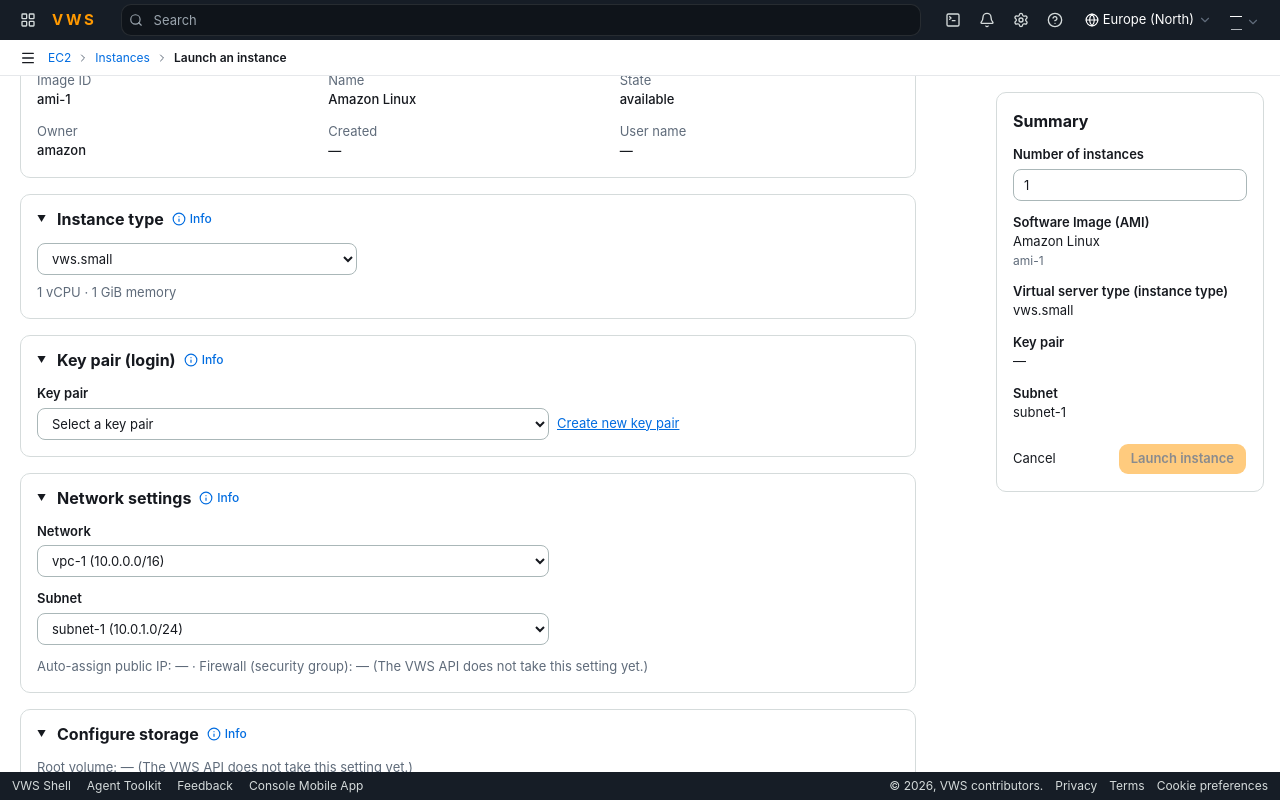
Test: launch key pair selection › enables launch after an explicit key pair selection
The image size is (1280, 800).
(page scrolled)
Expected: the button "Launch instance" is disabled, [1118,442,1247,474]
Select "web" in the dropdown named "Key pair". click: (293, 424)
box: [37,408,549,440]
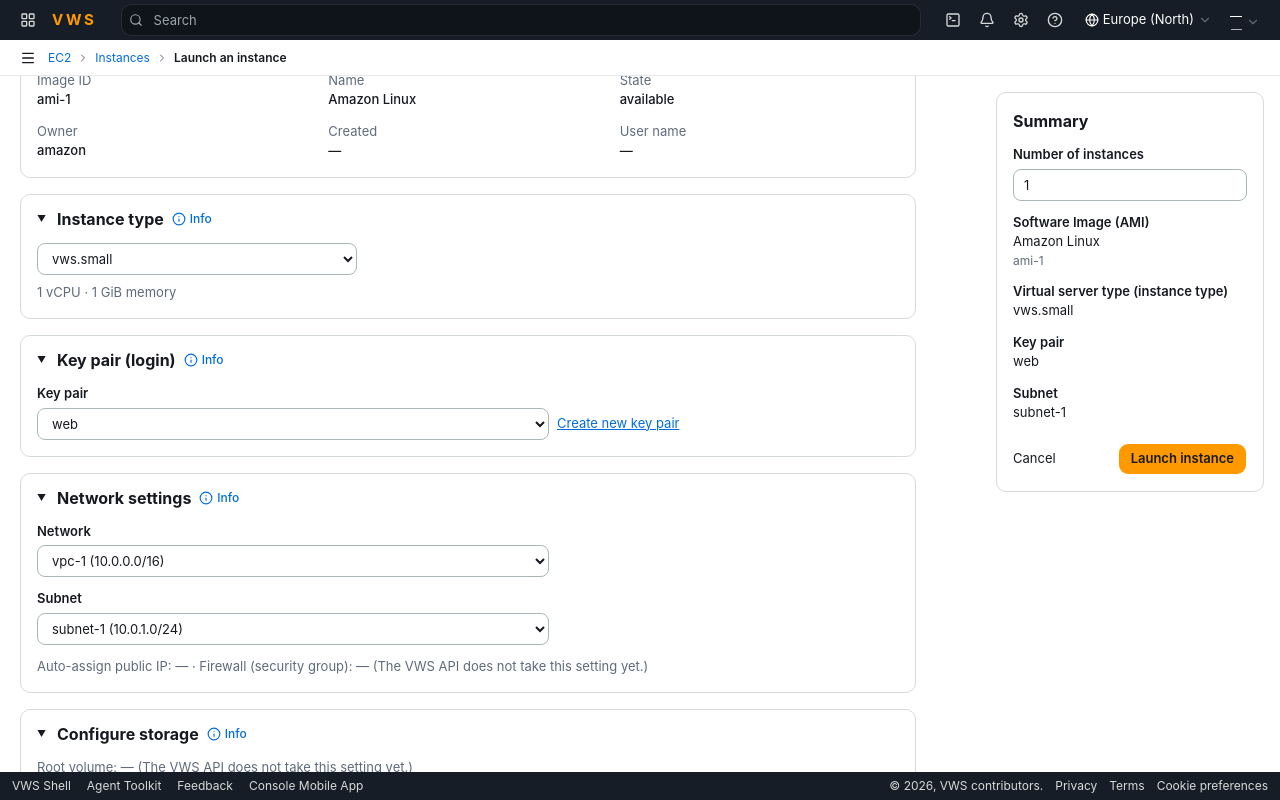
Result: the button "Launch instance" is enabled at [1118,442,1247,474]
